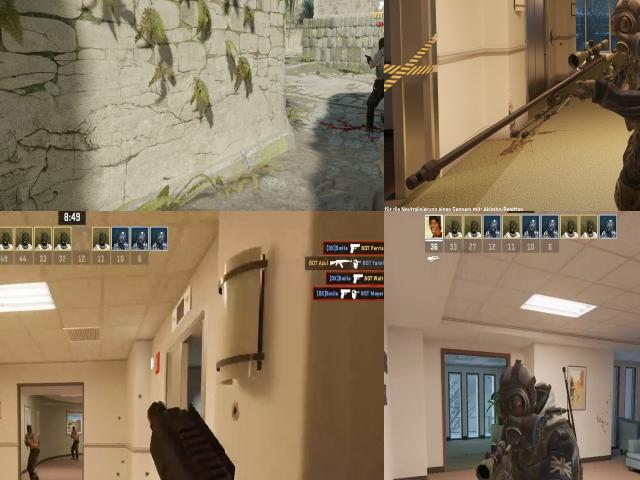CT: (489, 352, 575, 480), (606, 0, 640, 211)
CT-Head: (495, 361, 540, 441), (610, 0, 640, 44)
T: (369, 30, 384, 137), (24, 424, 39, 458), (68, 426, 82, 444)
T-Head: (24, 421, 34, 436), (377, 36, 384, 52), (71, 423, 79, 434)
